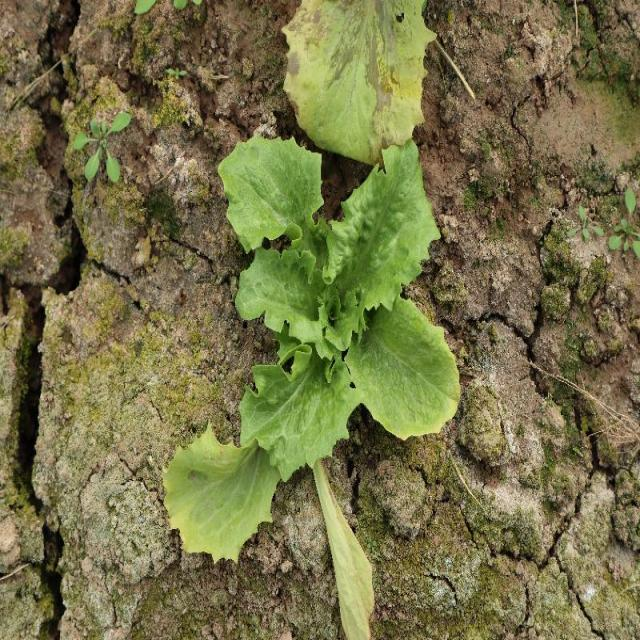crop: (163, 132, 464, 565)
